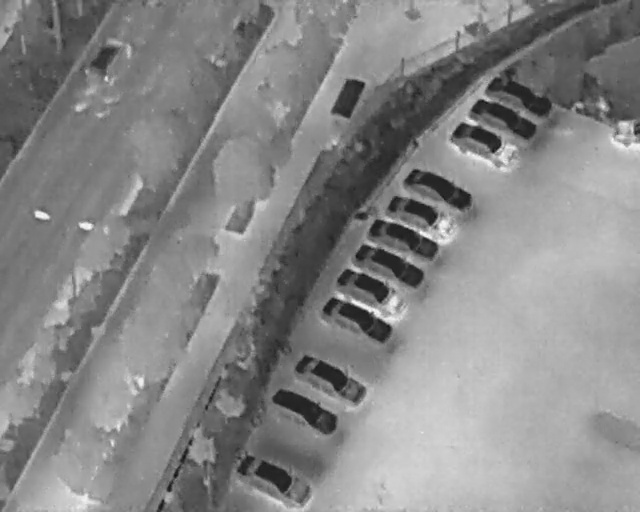Car: (227, 443, 318, 511), (263, 378, 346, 442), (290, 346, 373, 410), (316, 288, 399, 352), (331, 259, 414, 322), (443, 112, 522, 174), (398, 158, 479, 218), (349, 236, 430, 295), (362, 210, 444, 266), (381, 187, 463, 243), (466, 88, 543, 146), (485, 67, 559, 121), (611, 116, 639, 148)
OtherVehicle: (83, 29, 135, 87)
